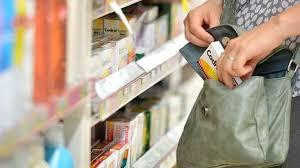shoplifting: (134, 12, 299, 114)
